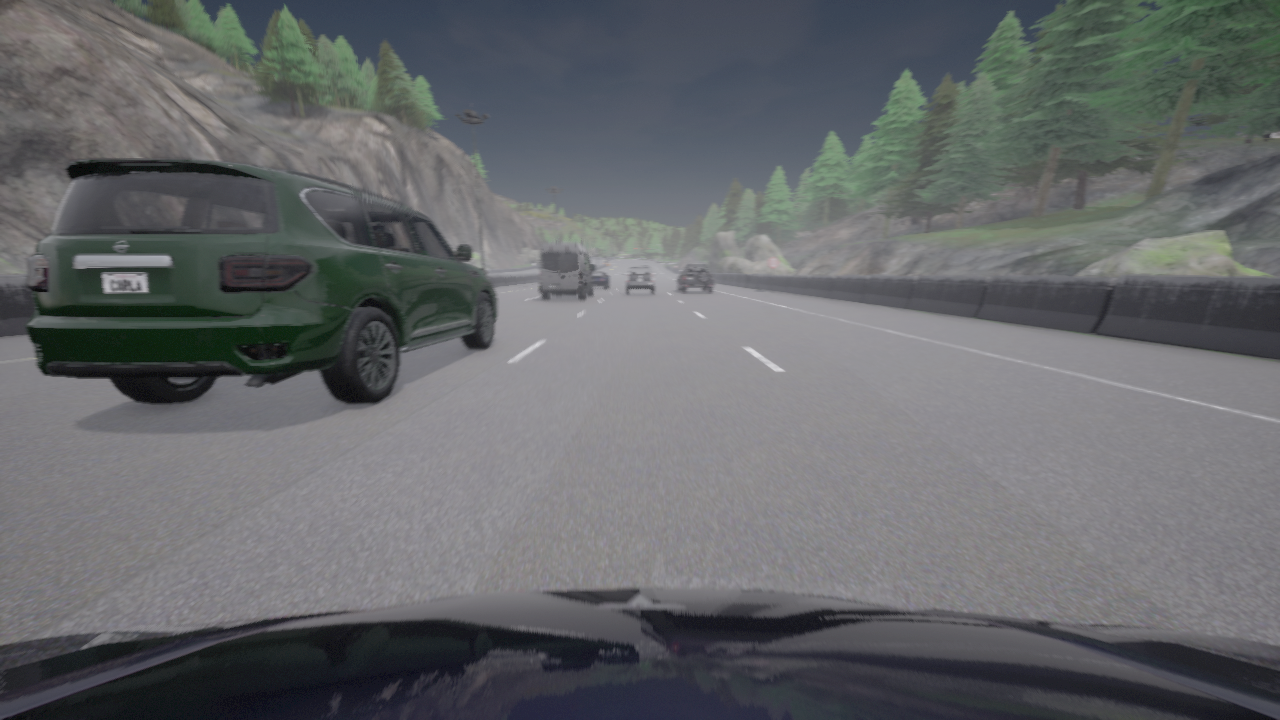cyclist: (0, 588, 1279, 719), (26, 159, 496, 403), (539, 243, 595, 299), (678, 263, 714, 292), (625, 266, 655, 294), (592, 272, 609, 288)
